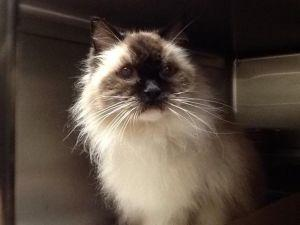siamese: (79, 6, 215, 129)
